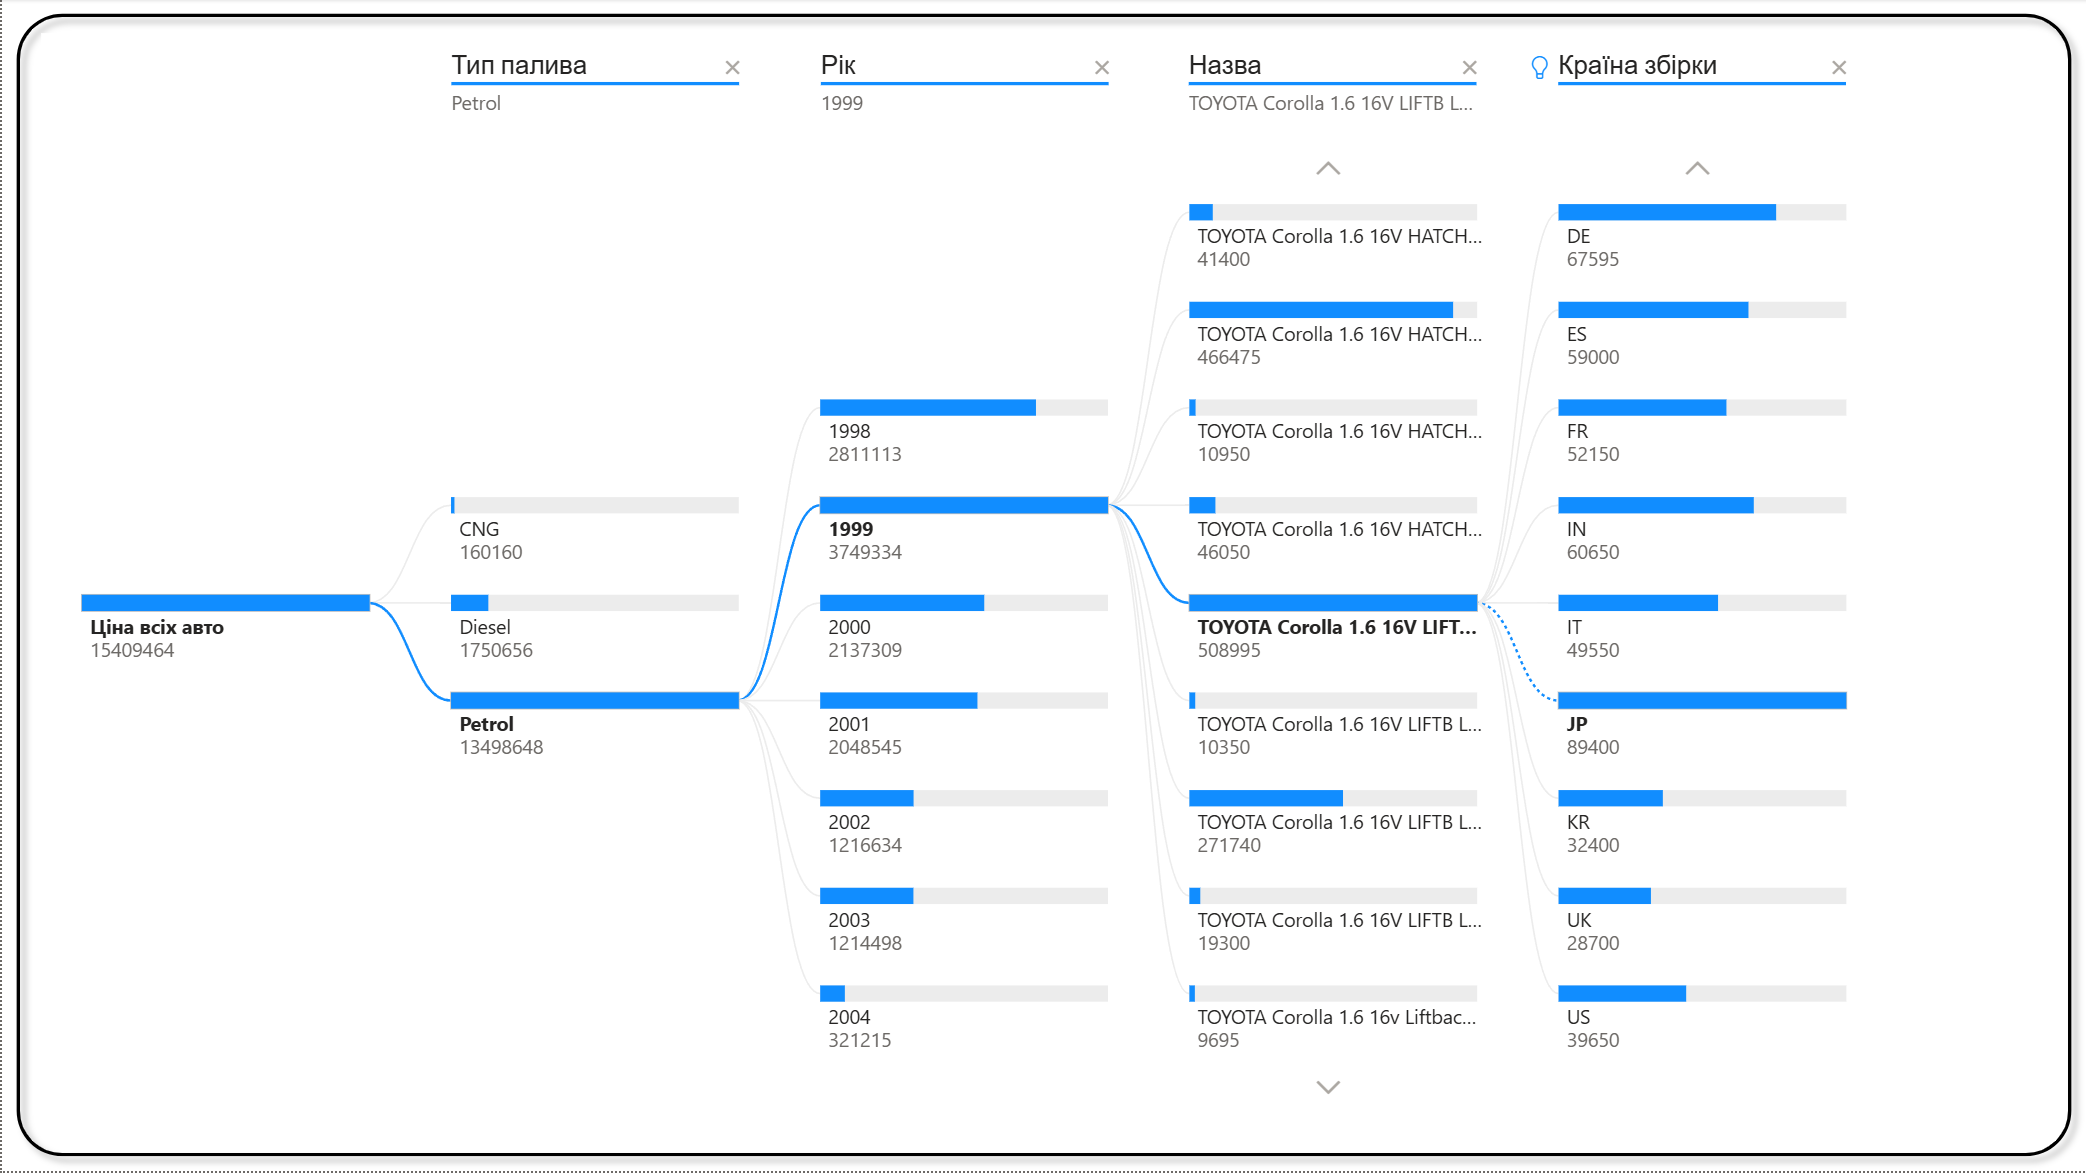

Layout of this report page (visuals, bound fields, positions):
{"tool":"powerbi","page":{"name":"Дерево декомпозицій","canvas":[1280,720],"ordinal":2},"visuals":[{"type":"shape","box":[0,0,1280.3,720],"z":0},{"type":"decompositionTreeVisual","fields":{"ExplainBy":["Specifications_Table.Fuel_Type","Calendar.Date.Варіація.Ієрархія дат.Рік","Car_Table.Model_Name","Car_Table.Country_Assembly"],"Analyze":["Sum(Car_Table.Selling_Price)"]},"box":[19,16,1242.8,688.1],"z":1000}]}

Visuals, with their boxes in screenshot pixels (x1, y1, x2, y2), scaled from the page's 1280x720 canvas onto the 2086x1174 screenshot:
shape: (x1=0, y1=0, x2=2085, y2=1173)
decompositionTreeVisual - Specifications_Table.Fuel_Type x Calendar.Date.Варіація.Ієрархія дат.Рік: (x1=31, y1=26, x2=2056, y2=1148)
